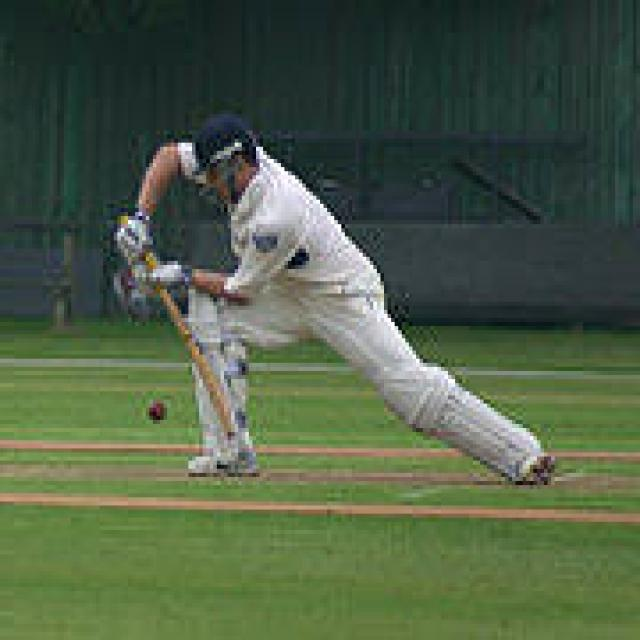toe: (206, 390, 250, 452)
